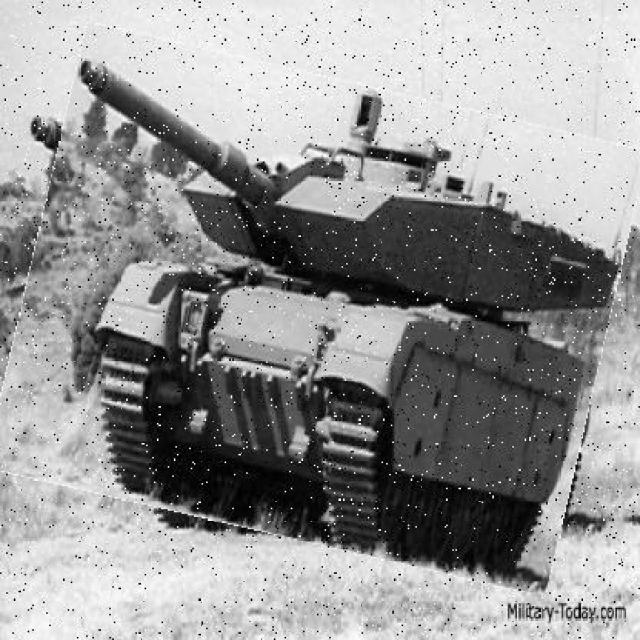Tank: (7, 52, 627, 567)
